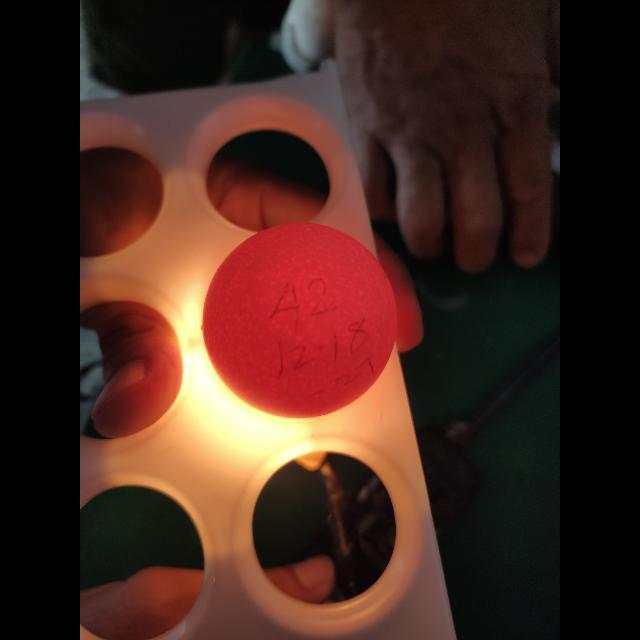Infertile: (199, 215, 397, 417)
